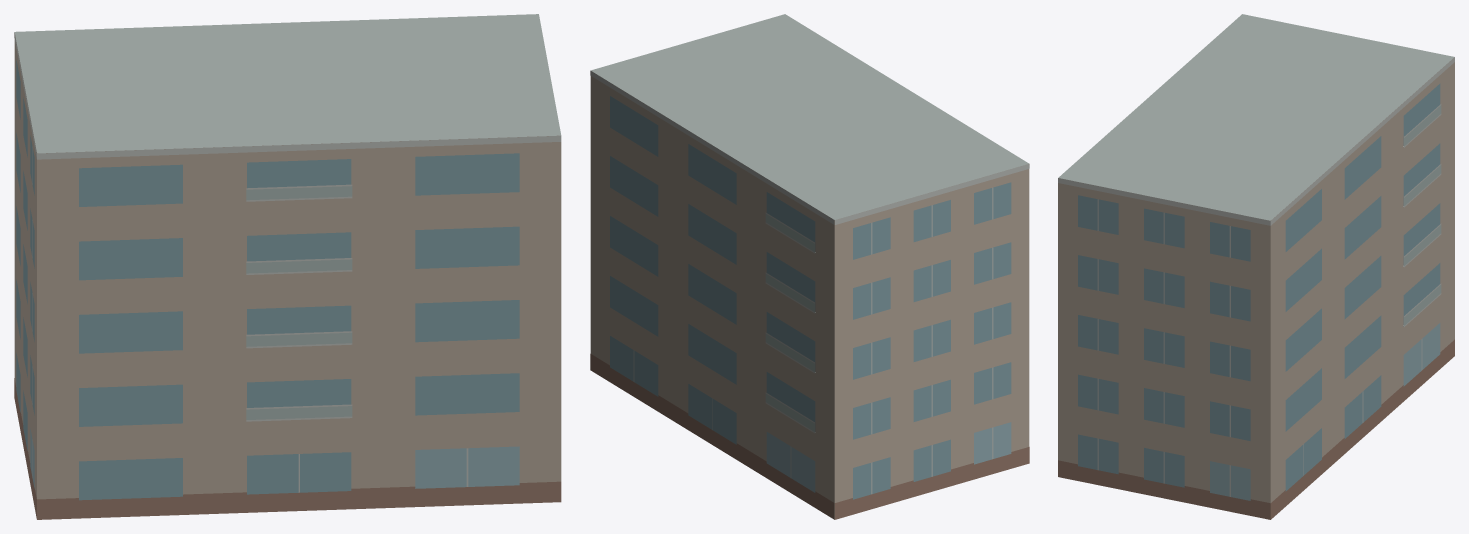
File: survey-upis-33044200.glb
The picture shows the model from 3 angles, left to right: view 1: azimuth 30°, elevation 25°; view 2: azimuth 150°, elevation 25°; view 3: azimuth 270°, elevation 25°; orthographic projection. The views are drawn at different scales.
Parts seen in each view (by area): view 1: survey-upis-33044200.tmp; view 2: survey-upis-33044200.tmp; view 3: survey-upis-33044200.tmp.
Boxes of the visible parts, x1,y1,x2,y2 form: survey-upis-33044200.tmp: [14, 14, 561, 519]; survey-upis-33044200.tmp: [590, 14, 1029, 519]; survey-upis-33044200.tmp: [1058, 14, 1454, 519].
Size of the model in its own units: 21.36 by 14.4 by 17.32.
